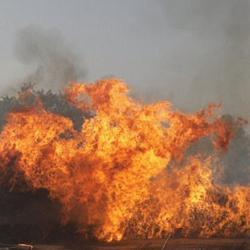fire: (86, 102, 173, 234), (5, 114, 69, 196), (186, 168, 243, 231)
